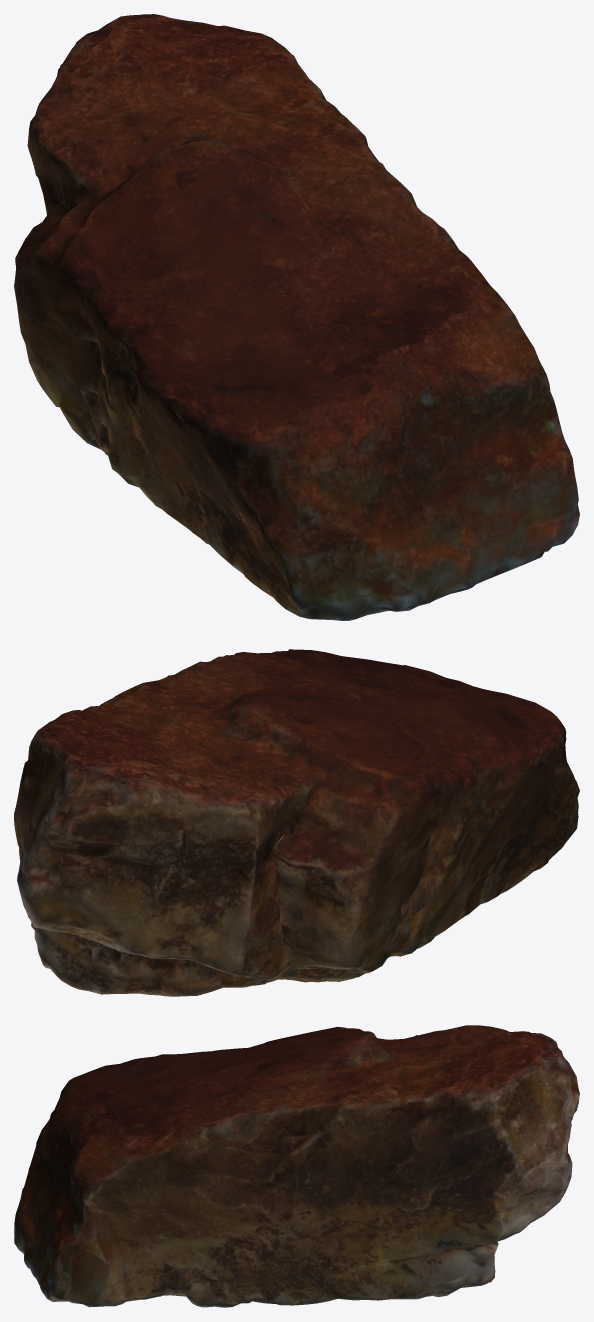
File: rock_07.glb
3 views of the same model, one above another, from view 1: azimuth 30°, elevation 25°; view 2: azimuth 150°, elevation 25°; view 3: azimuth 270°, elevation 25° (orthographic). The views are drawn at different scales.
Visible parts, largest first — view 1: rock_07_0; view 2: rock_07_0; view 3: rock_07_0.
Boxes of the visible parts, left/top/right/bottom form: rock_07_0: left=14, top=14, right=579, bottom=620; rock_07_0: left=14, top=649, right=579, bottom=996; rock_07_0: left=14, top=1025, right=579, bottom=1307.
Size of the model in its own units: 0.169 by 0.1438 by 0.3203.
1 material, 1 textured.
